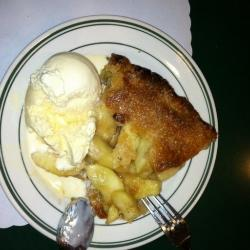apple_pie: (91, 56, 221, 224)
icecream: (24, 55, 102, 174)
